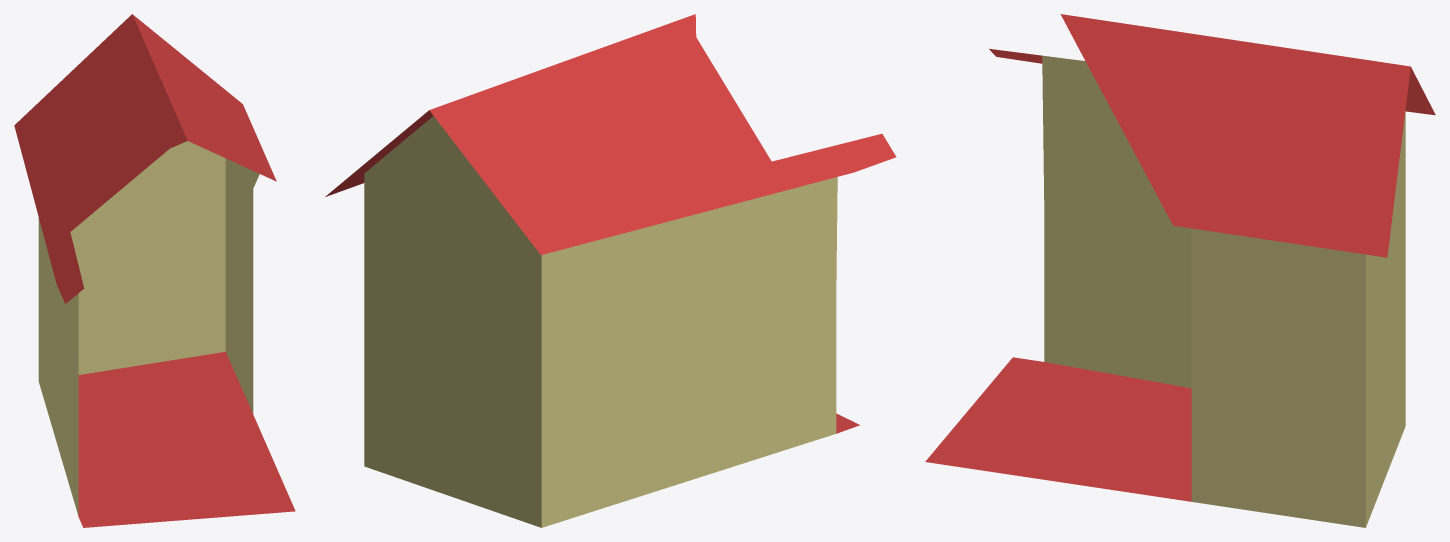
3 renders of one model, left to right at view 1: azimuth 30°, elevation 25°; view 2: azimuth 150°, elevation 25°; view 3: azimuth 270°, elevation 25°, orthographic. The views are drawn at different scales.
Size of the model in its own units: 13.07 by 14.05 by 12.65.
